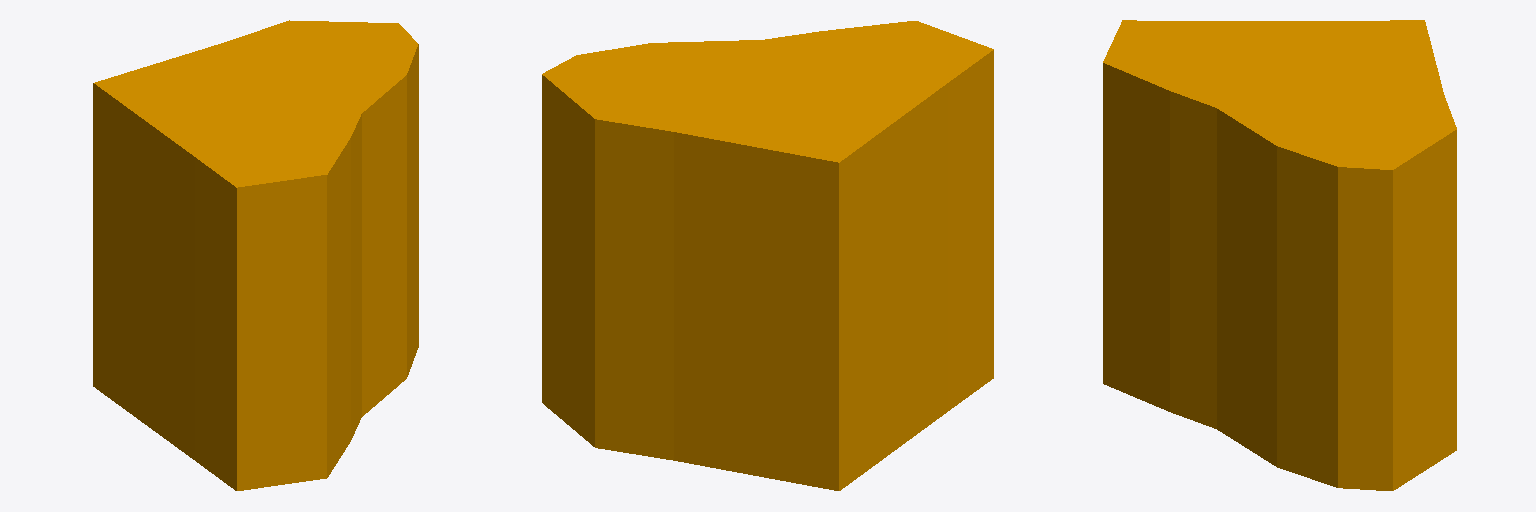
robot.urdf — object:
<?xml version="1.0"?>
<robot name="object">
  <link name="object">
    <visual>
      <origin xyz="0 0 0"/>
      <geometry>
        <mesh filename="meshes/polygon/poly_112_s.obj" scale=".03 .03 .03"/>
      </geometry>
    </visual>
    <collision>
  <origin xyz="0 0 0"/>
  <geometry>
    <mesh filename="meshes/polygon/poly_112_s_0decompose.obj" scale=".03 .03 .03"/>
<!--          <mesh filename="meshes/custom/obj0_ball.obj" scale=".05 .05 .05"/>-->
  </geometry>
</collision>

<!--    <collision>-->
<!--      <origin xyz="0 0 0"/>-->
<!--      <geometry>-->
<!--        <mesh filename="meshes/polygon/poly_112_s.obj" scale=".03 .03 .03"/>-->
<!--&lt;!&ndash;          <mesh filename="meshes/custom/obj0_ball.obj" scale=".05 .05 .05"/>&ndash;&gt;-->
<!--      </geometry>-->
<!--    </collision>-->
    <inertial>
      <density value="1000.0"/>
    </inertial>
  </link>
</robot>

--- Render facts (derived) ---
The picture shows the robot from 3 angles, left to right: view 1: azimuth 30°, elevation 25°; view 2: azimuth 150°, elevation 25°; view 3: azimuth 270°, elevation 25°; orthographic projection.
Robot: object — 1 links, 0 joints (none); root link object; default pose: all joints at 0.
Links seen in each view (by area): view 1: object; view 2: object; view 3: object.
Link boxes in pixels (x1,y1,x2,y2): object: (93,20,418,490); object: (542,21,993,490); object: (1103,20,1456,490).
Size in the robot's own frame: 0.06 by 0.06 by 0.06 metres.
1 mesh visuals loaded from 1 distinct referenced files (1 OBJ).
